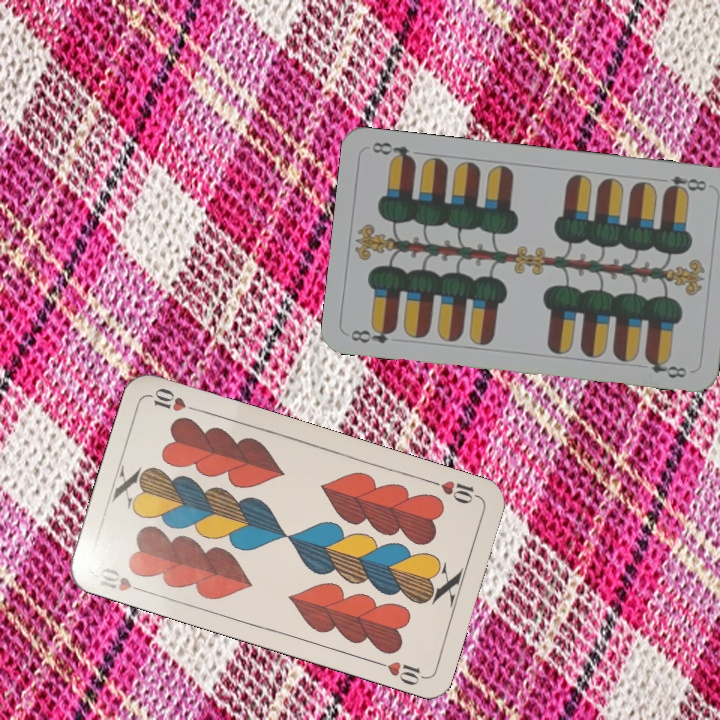E8: (346, 322, 398, 346), (661, 172, 710, 196)
H10: (425, 475, 483, 507), (95, 563, 149, 596)
